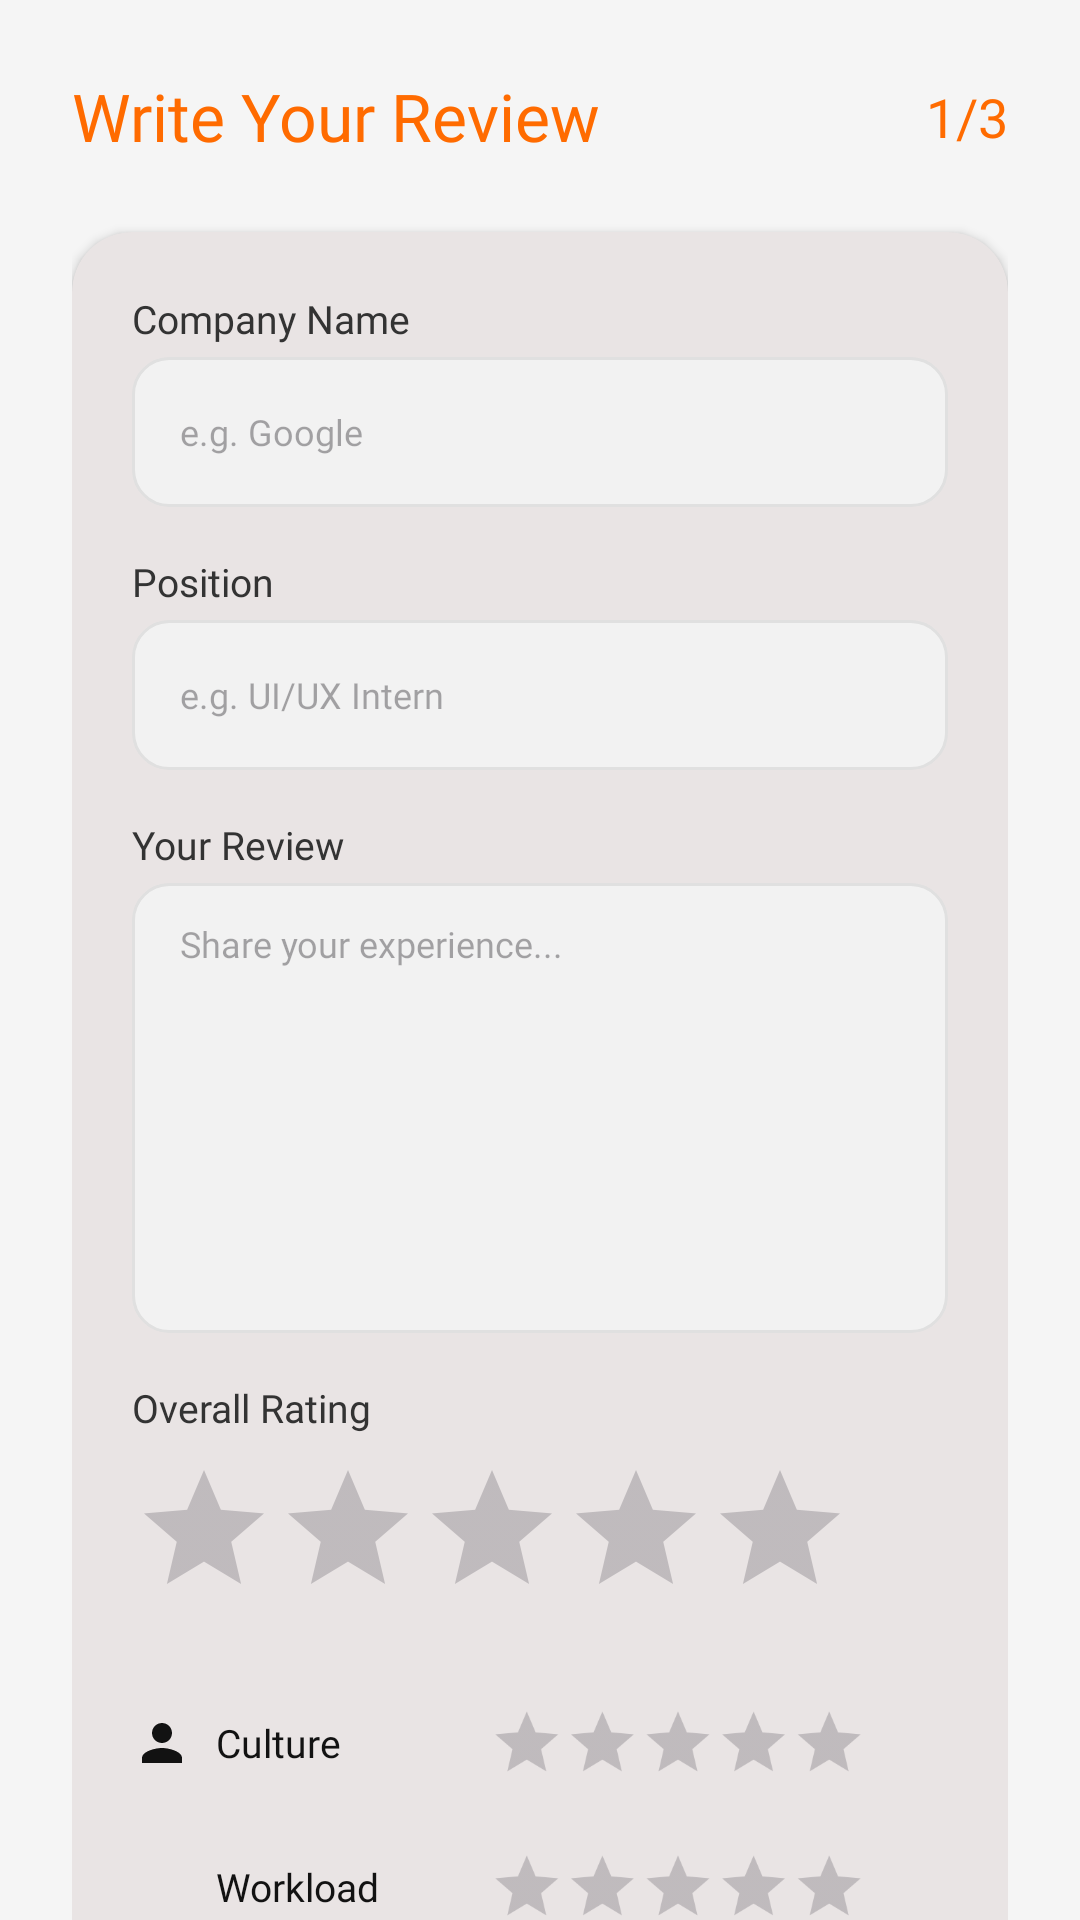

Icons on this 1080*1920 Android screen, each with the point to tap as [x,y]:
profile: [162,1743]
